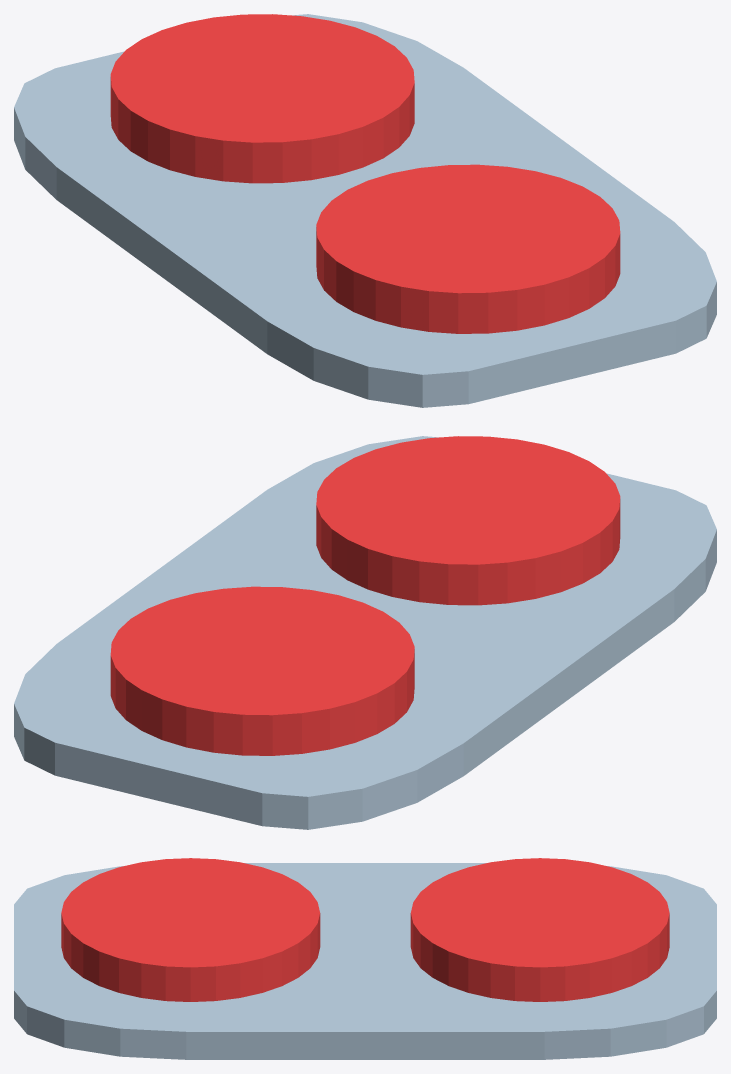
File: Button.fbx
3 views of the same model, one above another, from view 1: azimuth 30°, elevation 25°; view 2: azimuth 150°, elevation 25°; view 3: azimuth 270°, elevation 25° (orthographic). The views are drawn at different scales.
Parts seen in each view (by area): view 1: Baseplate, Button 2, Button 1; view 2: Baseplate, Button 1, Button 2; view 3: Baseplate, Button 1, Button 2.
Boxes of the visible parts, x1,y1,x2,y2 form: Baseplate: [14, 14, 716, 407]; Button 2: [110, 14, 414, 183]; Button 1: [316, 164, 620, 333]; Baseplate: [14, 436, 716, 829]; Button 1: [316, 436, 620, 605]; Button 2: [110, 586, 414, 755]; Baseplate: [14, 863, 716, 1059]; Button 1: [61, 858, 320, 1001]; Button 2: [410, 858, 669, 1001].
Bounding box in the file's own units: 28.18 × 4.88 × 49.61.
